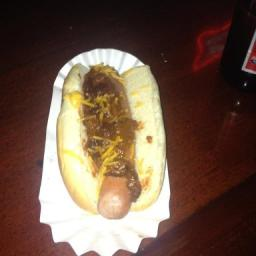hotdog: (90, 63, 144, 148), (97, 176, 137, 224)
